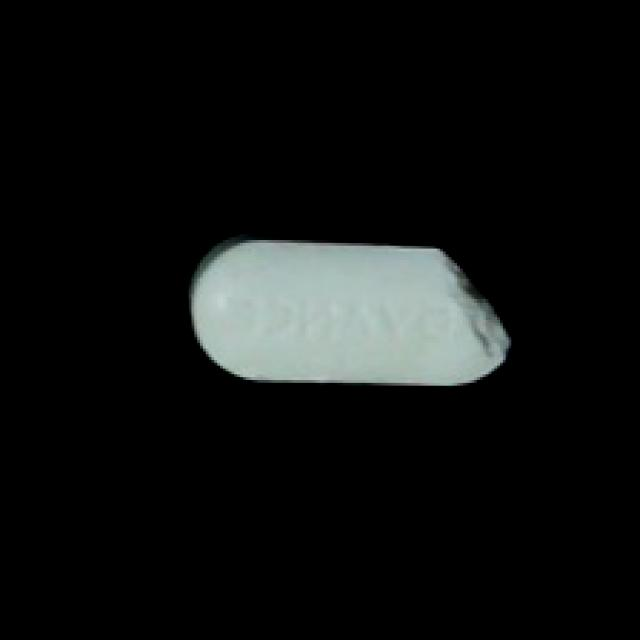defected: (183, 226, 517, 394)
